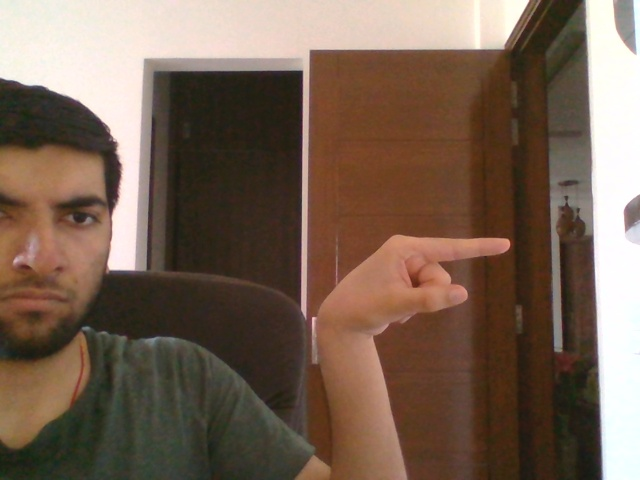LetterG: (315, 234, 511, 336)
